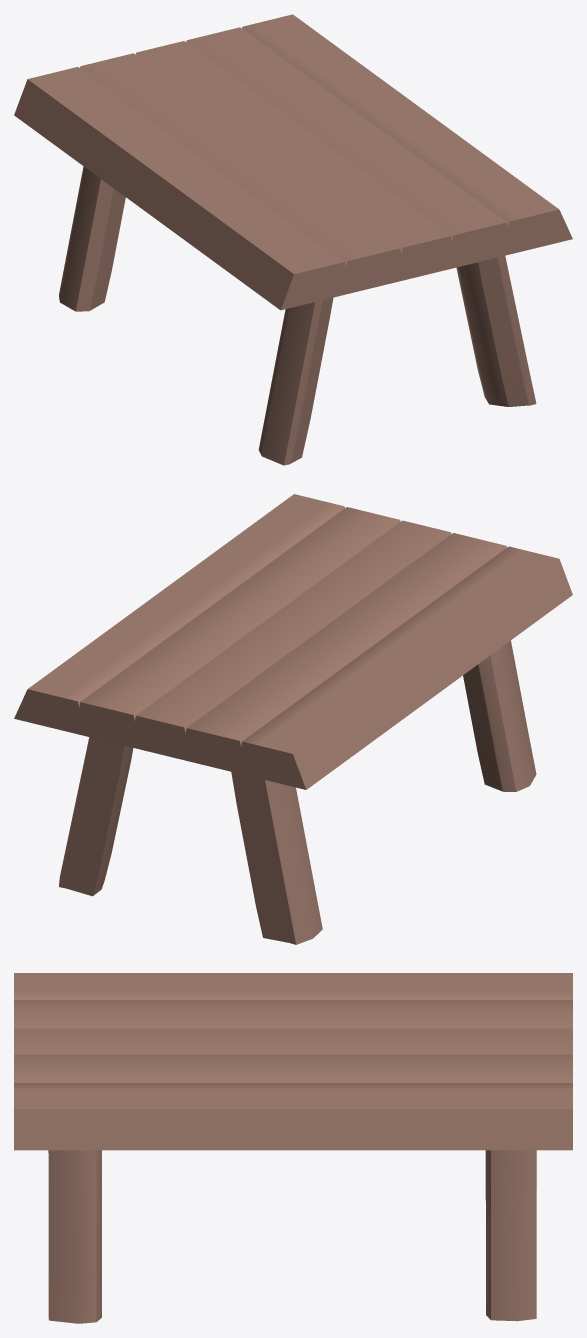
Rendered from table.fbx.
The picture shows the model from 3 angles, top to bottom: view 1: azimuth 30°, elevation 25°; view 2: azimuth 150°, elevation 25°; view 3: azimuth 270°, elevation 25°; orthographic projection. The views are drawn at different scales.
Parts seen in each view (by area): view 1: table; view 2: table; view 3: table.
Part boxes in pixels (left/top/right/bottom): table: left=14, top=14, right=572, bottom=465; table: left=14, top=494, right=572, bottom=944; table: left=14, top=973, right=572, bottom=1323.
Bounding box in the file's own units: 9.3 × 6.34 × 14.69.
